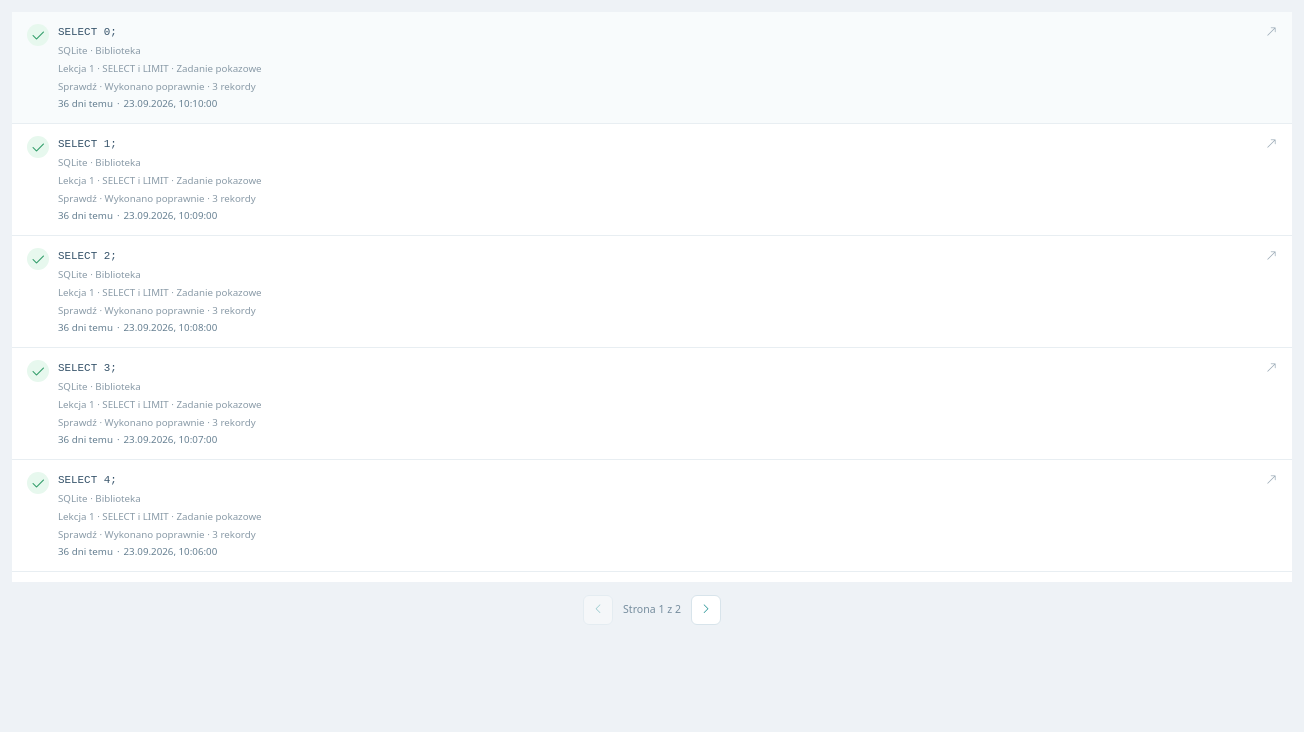
shows full query context and lets the student browse beyond the first page
Expected: the 1st text "SQLite · Biblioteka" is shown, top-left (58, 44), bottom-right (141, 57)
Expected: the 1st text "Lekcja 1 · SELECT i LIMIT · Zadanie pokazowe" is shown, top-left (58, 62), bottom-right (262, 75)
Click the button named "Następna strona historii": coordinates (706, 610) top-left (691, 595), bottom-right (721, 625)
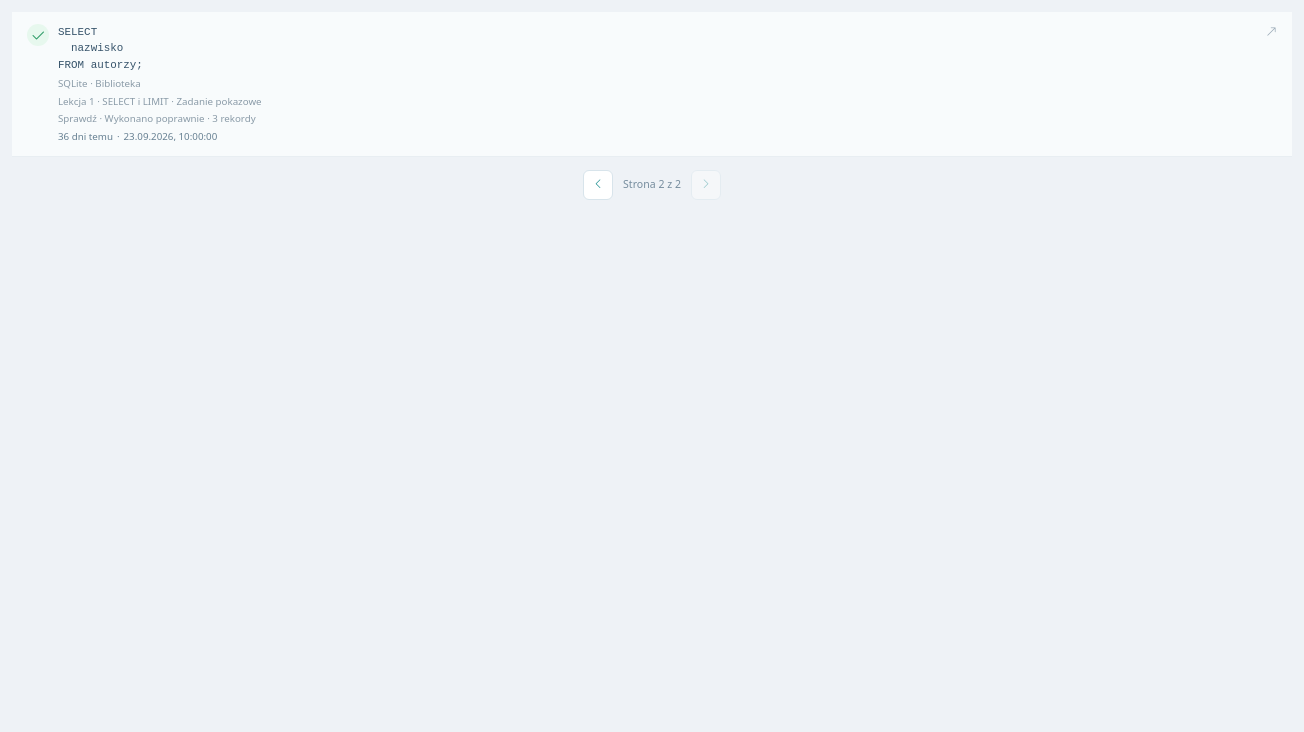
Now the text "Strona 2 z 2" is shown, box top-left (623, 177), bottom-right (681, 192)
